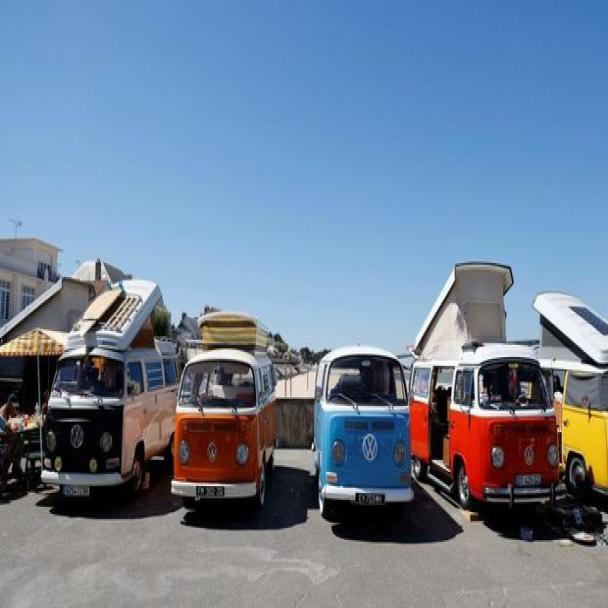Mobil: (406, 349, 570, 522), (38, 335, 178, 504), (172, 344, 279, 506), (314, 345, 417, 512), (542, 347, 608, 507)
